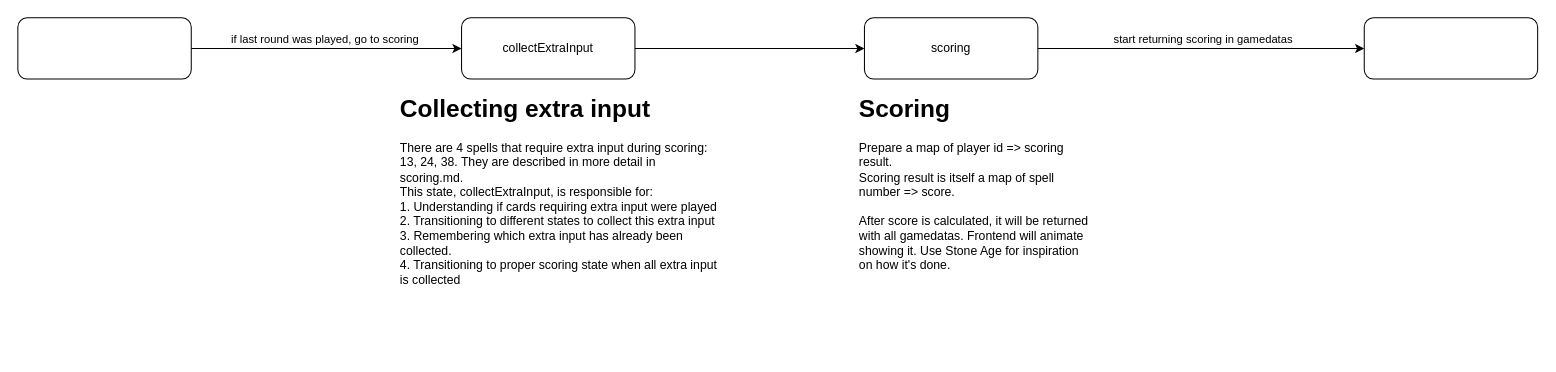
The diagram is 1556 pixels wide and 372 high, and some of its shapes have lost their labels. The shapes that lost their labels are listed below. From the top down, each one's centre as x and y in pixels, then its label:
At point (104, 48): "prepareCurrentRound".
At point (1450, 48): "game end".
